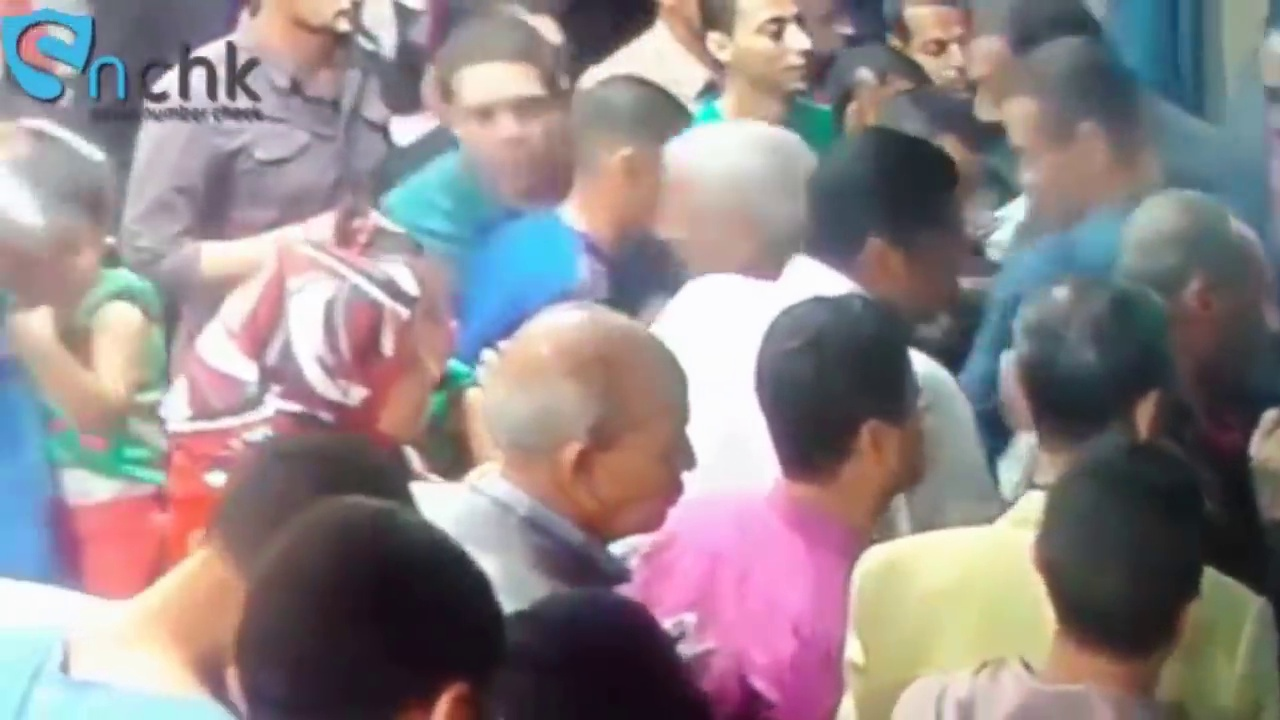face: (444, 77, 564, 184), (731, 2, 807, 90), (903, 6, 970, 81)
